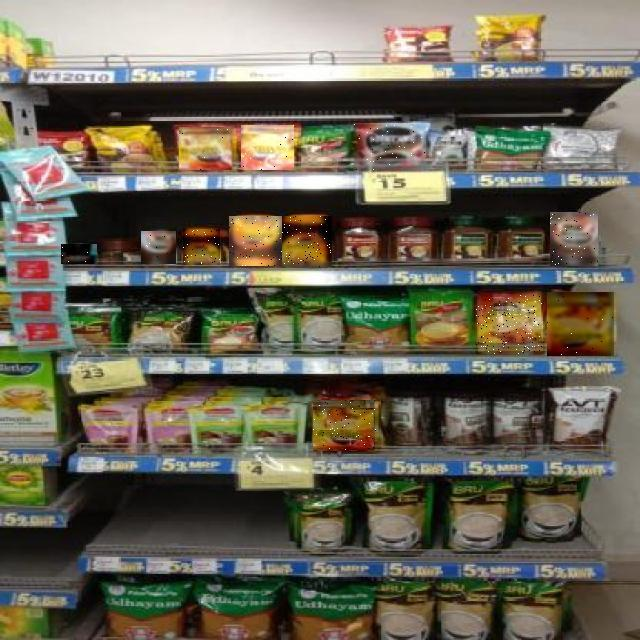Coffee: (548, 292, 616, 356), (476, 294, 542, 354), (354, 124, 426, 170), (314, 400, 378, 451), (282, 216, 334, 267), (229, 217, 282, 267), (550, 212, 598, 266), (180, 127, 236, 170), (241, 125, 294, 170), (183, 229, 220, 265), (141, 231, 176, 264), (61, 244, 97, 264)
